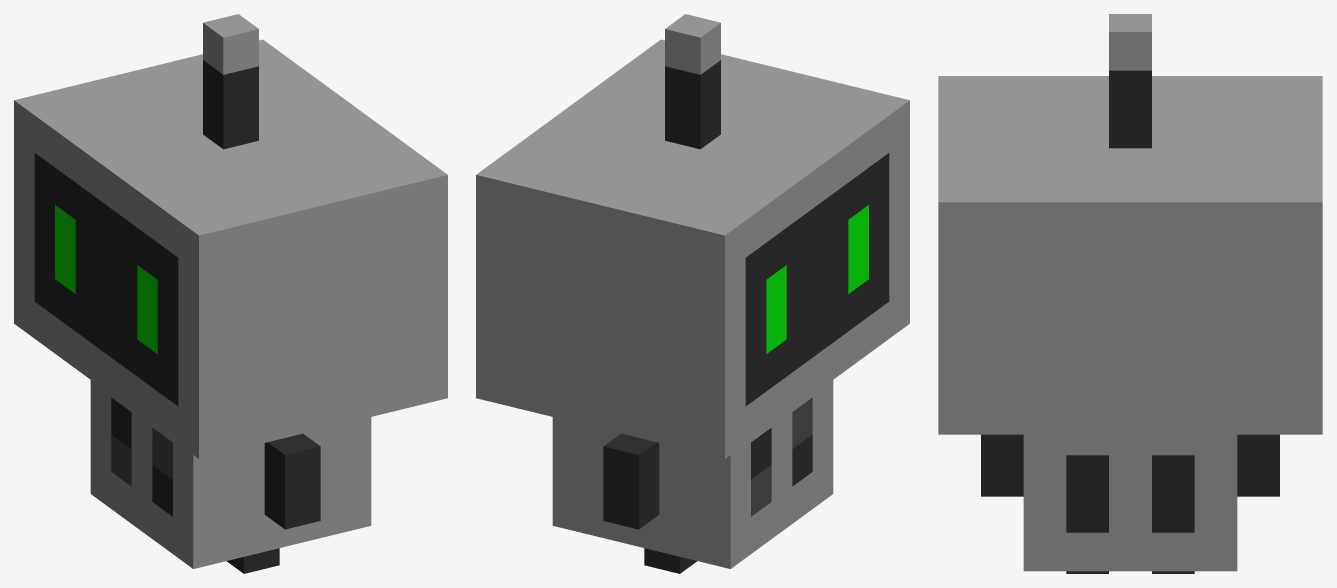
Rendered from Robot.glb.
3 renders of one model, left to right at view 1: azimuth 30°, elevation 25°; view 2: azimuth 150°, elevation 25°; view 3: azimuth 270°, elevation 25°, orthographic. The views are drawn at different scales.
Size of the model in its own units: 7 by 14 by 9.
1 material, 1 textured.
